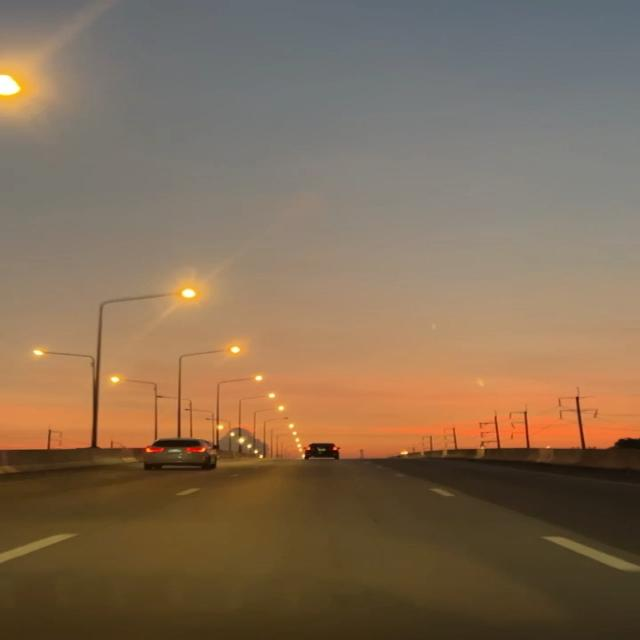Poth-hole: (126, 478, 473, 605)
